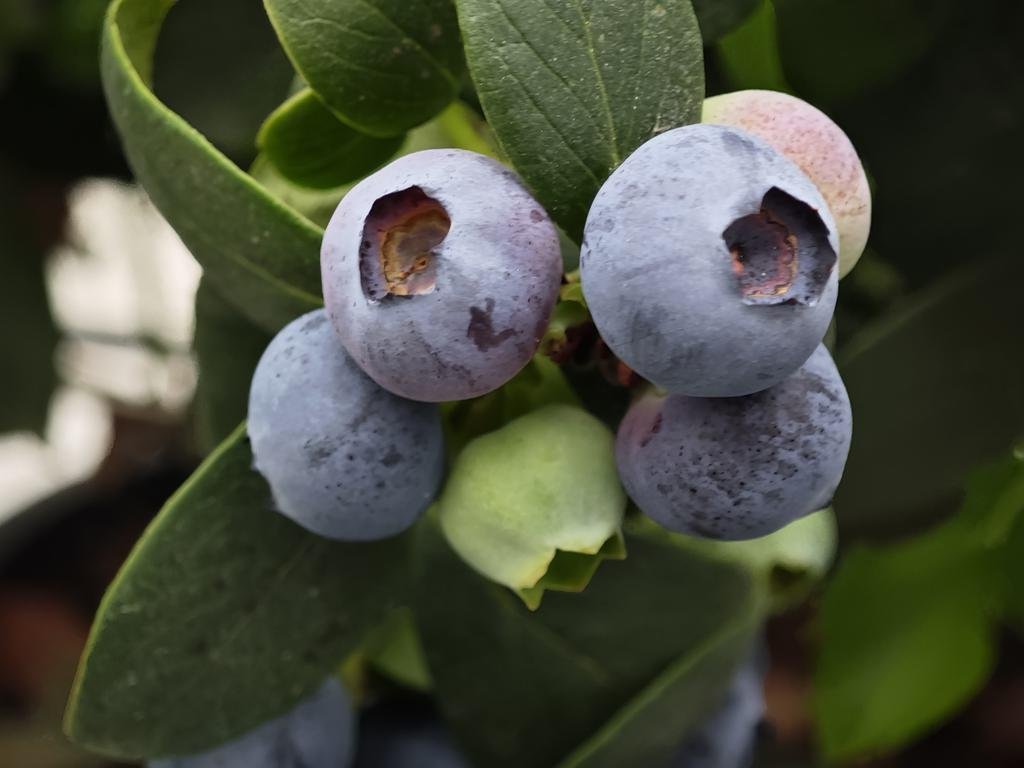RipeBlueBerry: (587, 123, 841, 396), (322, 142, 564, 397)
